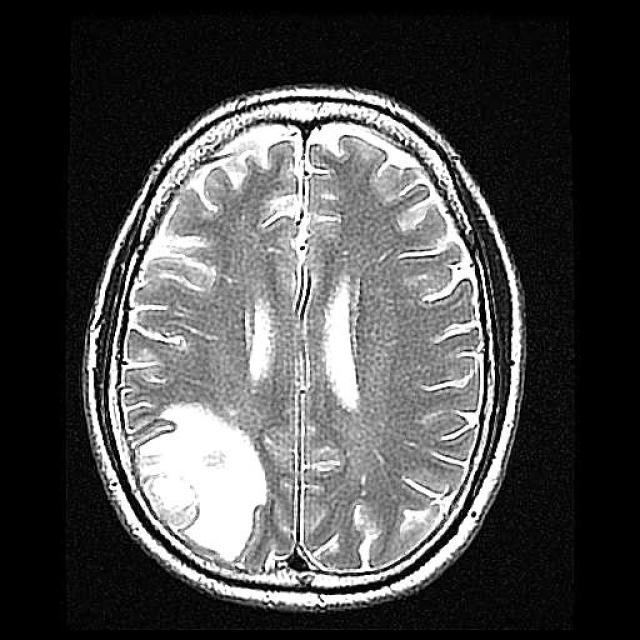brain tumor: (132, 402, 269, 561)
